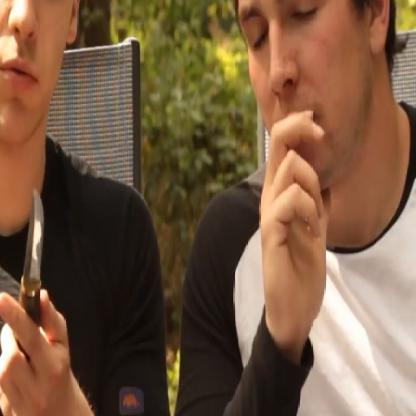knife: (0, 167, 73, 415)
